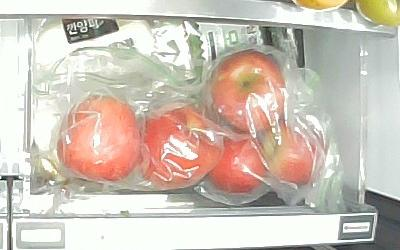apple_vinyl: (141, 100, 224, 191), (55, 95, 141, 181), (209, 50, 288, 132), (267, 119, 326, 186), (206, 133, 269, 195)
